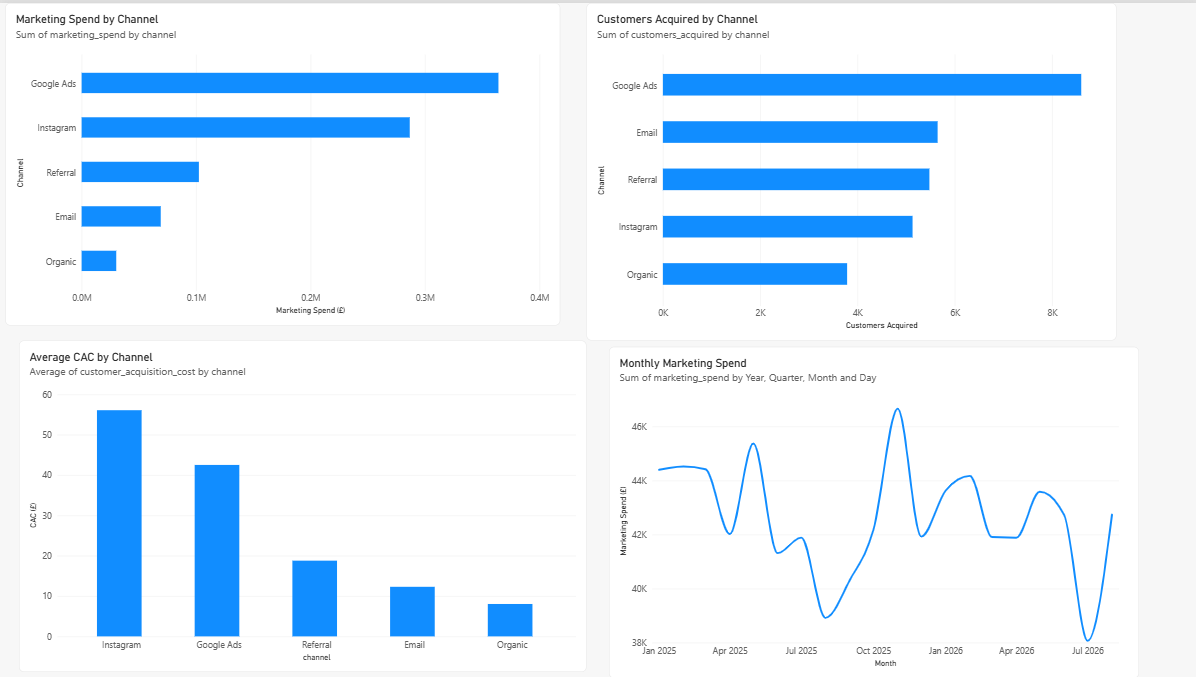

Layout of this report page (visuals, bound fields, positions):
{"tool":"powerbi","page":{"name":"Marketing","canvas":[1920,1080],"ordinal":4},"visuals":[{"type":"clusteredBarChart","title":"Marketing Spend by Channel","fields":{"Category":["marketing.channel"],"Y":["Sum(marketing.marketing_spend)"]},"box":[10,0,888,516],"z":0},{"type":"clusteredBarChart","title":"Customers Acquired by Channel","fields":{"Category":["marketing.channel"],"Y":["Sum(marketing.customers_acquired)"]},"box":[940,0,848,540],"z":1},{"type":"clusteredColumnChart","title":"Average CAC by Channel","fields":{"Category":["marketing.channel"],"Y":["Avg(marketing.customer_acquisition_cost)"]},"box":[32,540,908,530],"z":2},{"type":"lineChart","title":"Monthly Marketing Spend","fields":{"Category":["marketing.month.Variation.Date Hierarchy.Year","marketing.month.Variation.Date Hierarchy.Quarter","marketing.month.Variation.Date Hierarchy.Month","marketing.month.Variation.Date Hierarchy.Day"],"Y":["Sum(marketing.marketing_spend)"]},"box":[976,550,848,530],"z":3}]}

Visuals, with their boxes in screenshot pixels (x1, y1, x2, y2), scaled from the page's 1920x1080 canvas onto the 1196x677 screenshot:
"Marketing Spend by Channel" clusteredBarChart: l=6, t=0, r=559, b=323
"Customers Acquired by Channel" clusteredBarChart: l=586, t=0, r=1114, b=338
"Average CAC by Channel" clusteredColumnChart: l=20, t=338, r=586, b=671
"Monthly Marketing Spend" lineChart: l=608, t=345, r=1136, b=676
